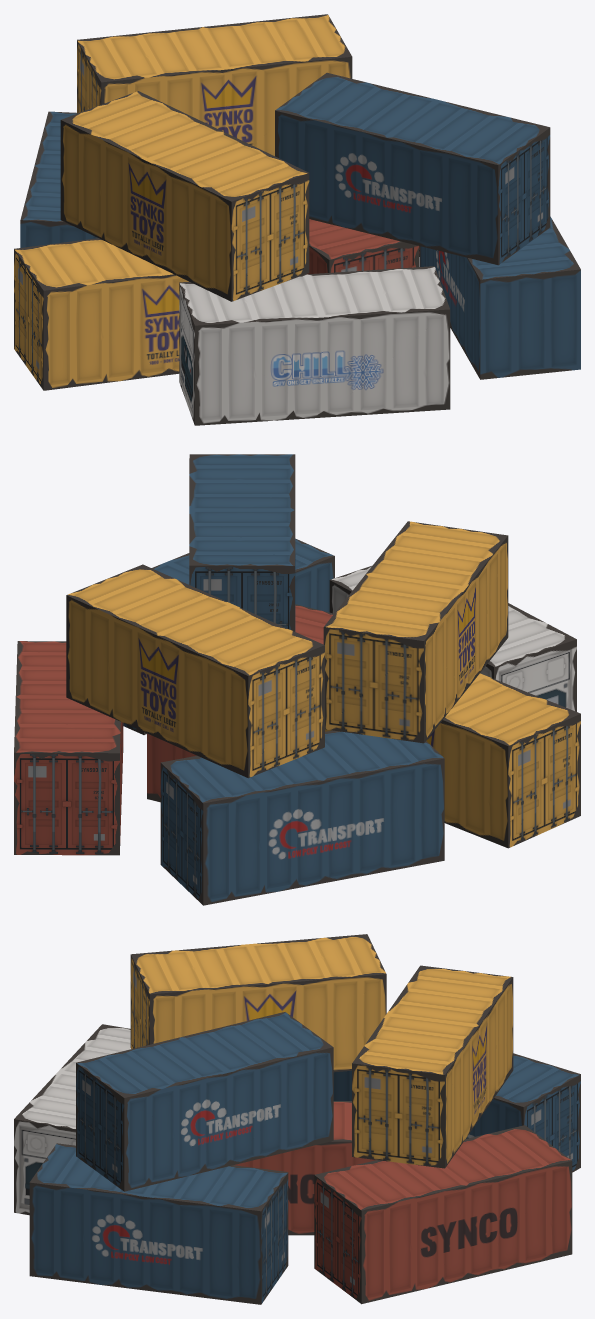
The model's file is SM_Prop_Container_Stack_09.fbx.
3 views of the same model, one above another, from view 1: azimuth 30°, elevation 25°; view 2: azimuth 150°, elevation 25°; view 3: azimuth 270°, elevation 25° (orthographic). The views are drawn at different scales.
Visible parts, largest first — view 1: SM_Prop_Container_Stack_09; view 2: SM_Prop_Container_Stack_09; view 3: SM_Prop_Container_Stack_09.
Boxes of the visible parts, x1=… form: SM_Prop_Container_Stack_09: x1=14, y1=14, x2=580, y2=425; SM_Prop_Container_Stack_09: x1=14, y1=454, x2=580, y2=905; SM_Prop_Container_Stack_09: x1=14, y1=934, x2=580, y2=1304.
Size of the model in its own units: 1321 by 518 by 1422.
